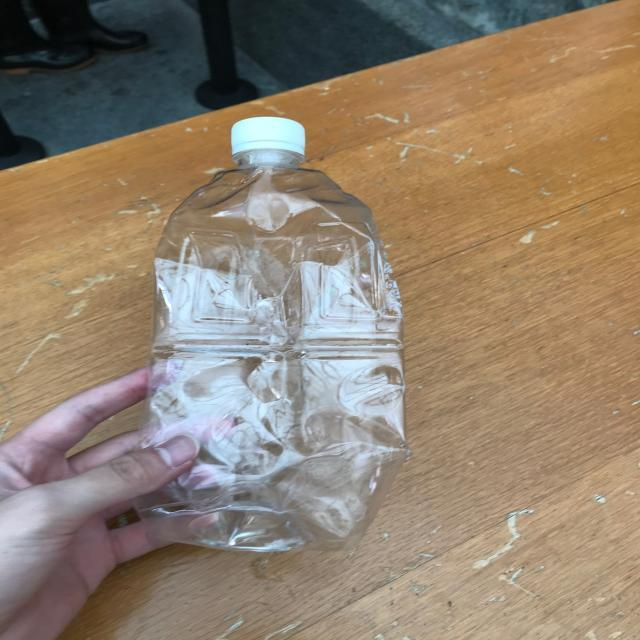plastic_bottle: (131, 116, 408, 552)
